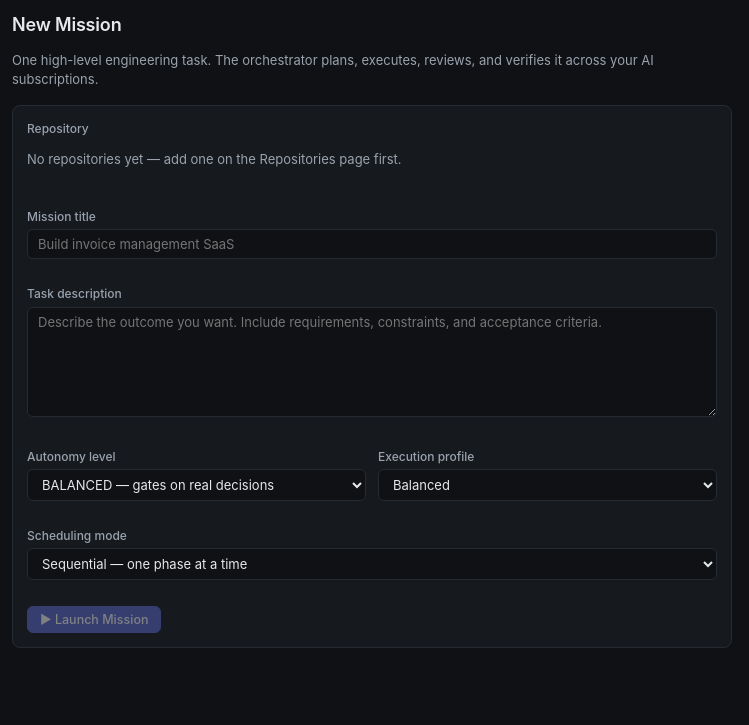
Test: NewMissionPage scheduling mode › switches to Parallel Safe and shows DAG mode options
Select "Parallel Safe — independent tasks run together" in the dropdown with test id "scheduling-mode" at point(372, 564), box [27,548,717,580]
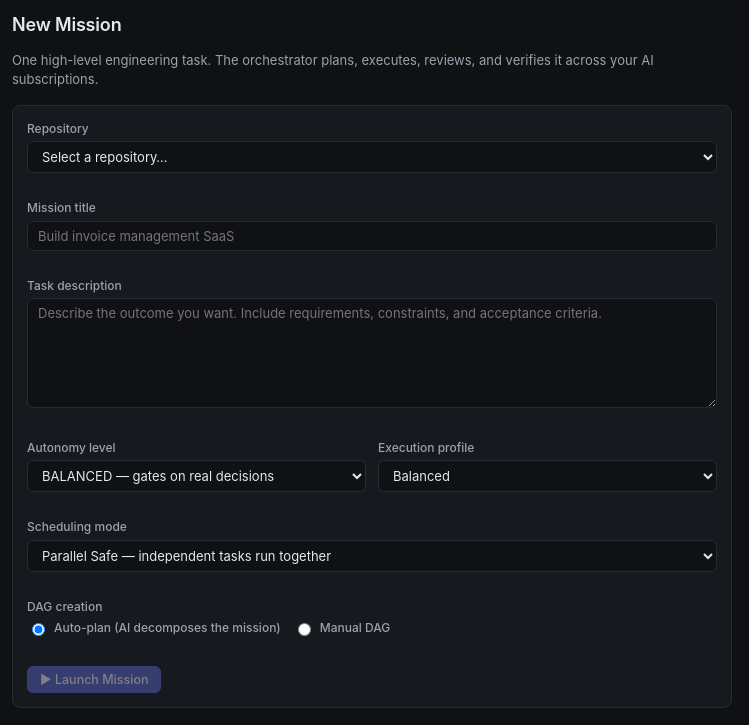
expect the text "Auto-plan (AI decomposes the mission)" is shown: met, box [27,619,281,636]
expect the text "Manual DAG" is shown: met, box [293,619,390,636]
